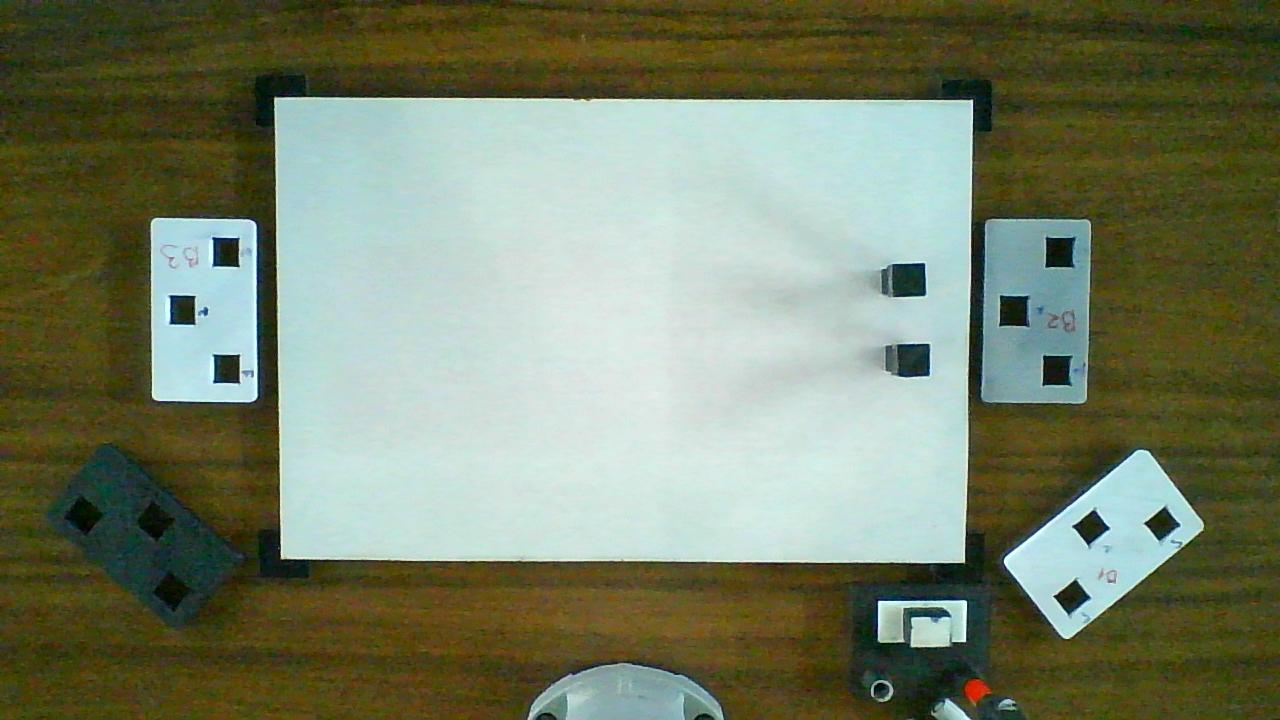peca_preta: (895, 265, 924, 296), (899, 346, 927, 375)
